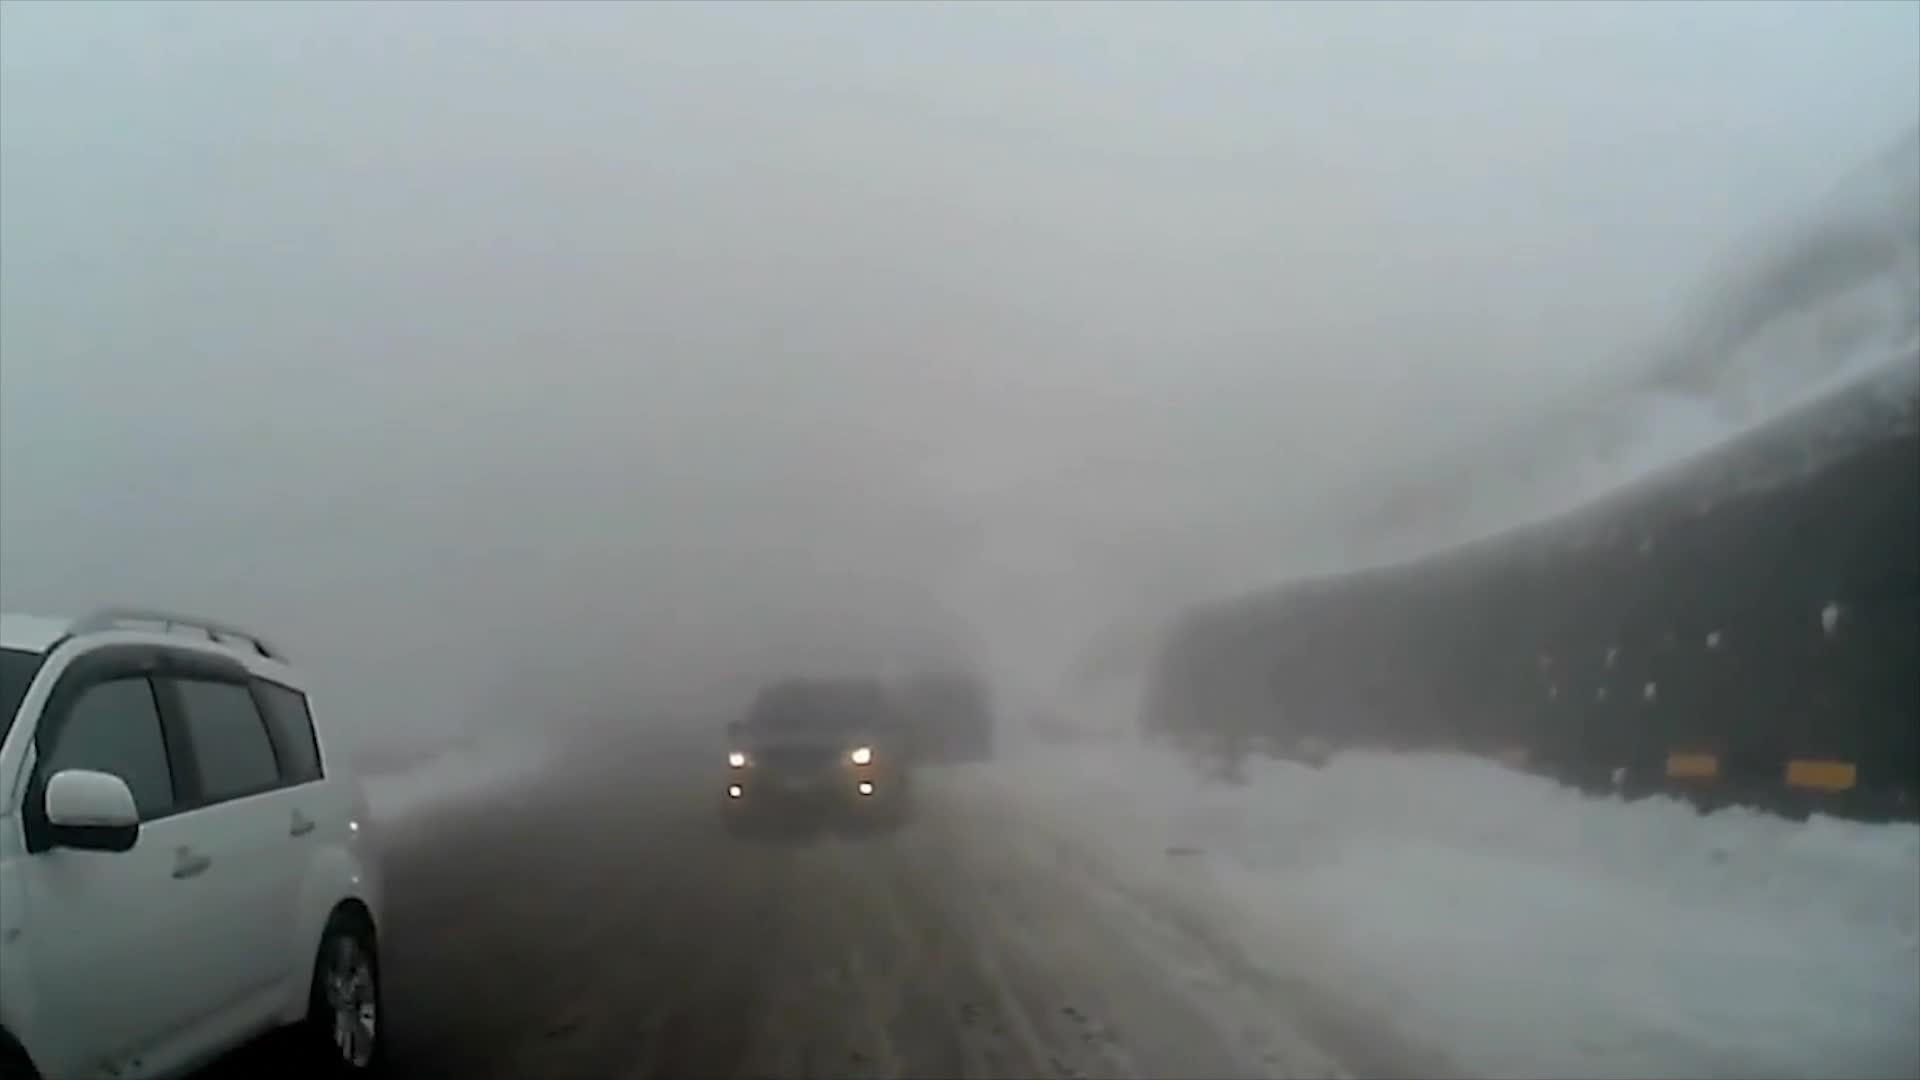vehicle: (0, 603, 390, 1080), (717, 673, 914, 839)
